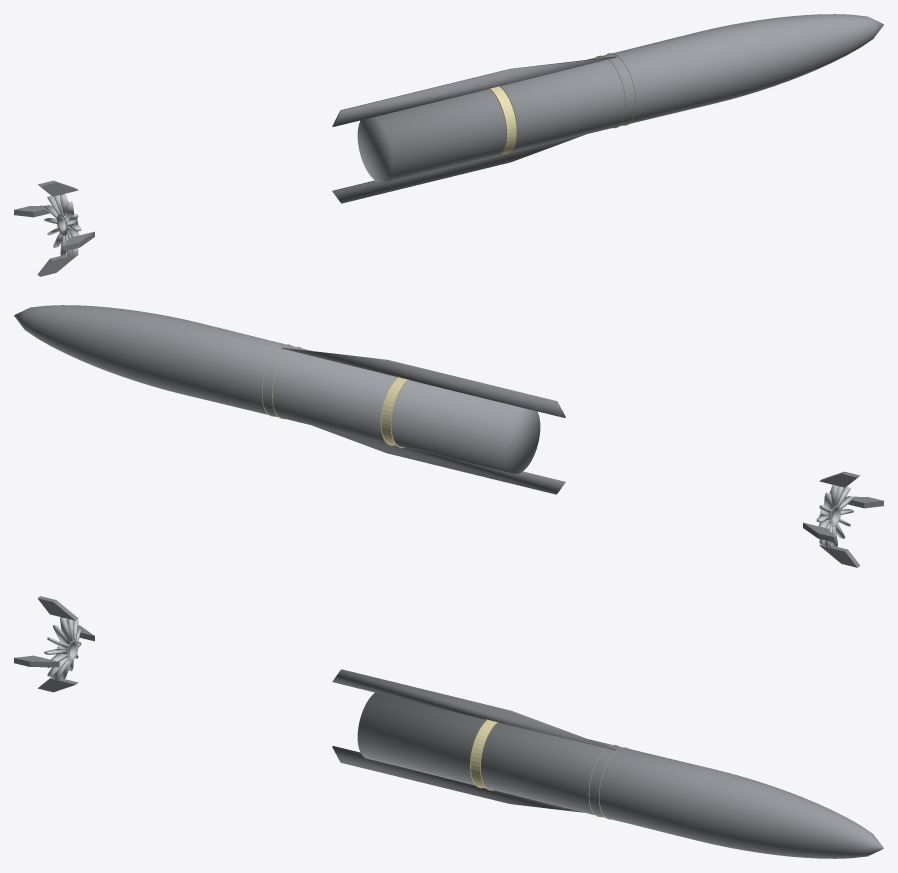
Rendered from CN_TORP_Yu1_LOD0.fbx.
3 renders of one model, top to bottom at view 1: azimuth 30°, elevation 25°; view 2: azimuth 150°, elevation 25°; view 3: azimuth 330°, elevation 25°, orthographic.
Visible parts, largest first — view 1: WPN_CN_TORP_Yu1_LOD0_Body, WPN_CN_TORP_Yu1_LOD0_Detail, WPN_CN_TORP_Yu1_LOD0_Fins, WPN_CN_TORP_Yu1_LOD0_Propulsor, WPN_CN_TORP_Yu1_LOD0_Marking; view 2: WPN_CN_TORP_Yu1_LOD0_Body, WPN_CN_TORP_Yu1_LOD0_Detail, WPN_CN_TORP_Yu1_LOD0_Fins, WPN_CN_TORP_Yu1_LOD0_Propulsor, WPN_CN_TORP_Yu1_LOD0_Marking; view 3: WPN_CN_TORP_Yu1_LOD0_Body, WPN_CN_TORP_Yu1_LOD0_Detail, WPN_CN_TORP_Yu1_LOD0_Propulsor, WPN_CN_TORP_Yu1_LOD0_Fins, WPN_CN_TORP_Yu1_LOD0_Marking.
Boxes of the visible parts, <box> form: WPN_CN_TORP_Yu1_LOD0_Body: <box>357,14,883,182</box>; WPN_CN_TORP_Yu1_LOD0_Detail: <box>332,56,616,203</box>; WPN_CN_TORP_Yu1_LOD0_Fins: <box>14,180,94,276</box>; WPN_CN_TORP_Yu1_LOD0_Propulsor: <box>44,194,81,257</box>; WPN_CN_TORP_Yu1_LOD0_Marking: <box>489,53,635,157</box>; WPN_CN_TORP_Yu1_LOD0_Body: <box>14,305,540,473</box>; WPN_CN_TORP_Yu1_LOD0_Detail: <box>281,347,565,494</box>; WPN_CN_TORP_Yu1_LOD0_Fins: <box>803,471,883,567</box>; WPN_CN_TORP_Yu1_LOD0_Propulsor: <box>816,485,853,548</box>; WPN_CN_TORP_Yu1_LOD0_Marking: <box>262,344,408,448</box>; WPN_CN_TORP_Yu1_LOD0_Body: <box>357,692,883,858</box>; WPN_CN_TORP_Yu1_LOD0_Detail: <box>332,669,616,812</box>; WPN_CN_TORP_Yu1_LOD0_Propulsor: <box>44,617,81,680</box>; WPN_CN_TORP_Yu1_LOD0_Fins: <box>14,596,94,692</box>; WPN_CN_TORP_Yu1_LOD0_Marking: <box>470,719,628,819</box>.
Size of the model in its own units: 7.07 by 0.7215 by 0.7409.
